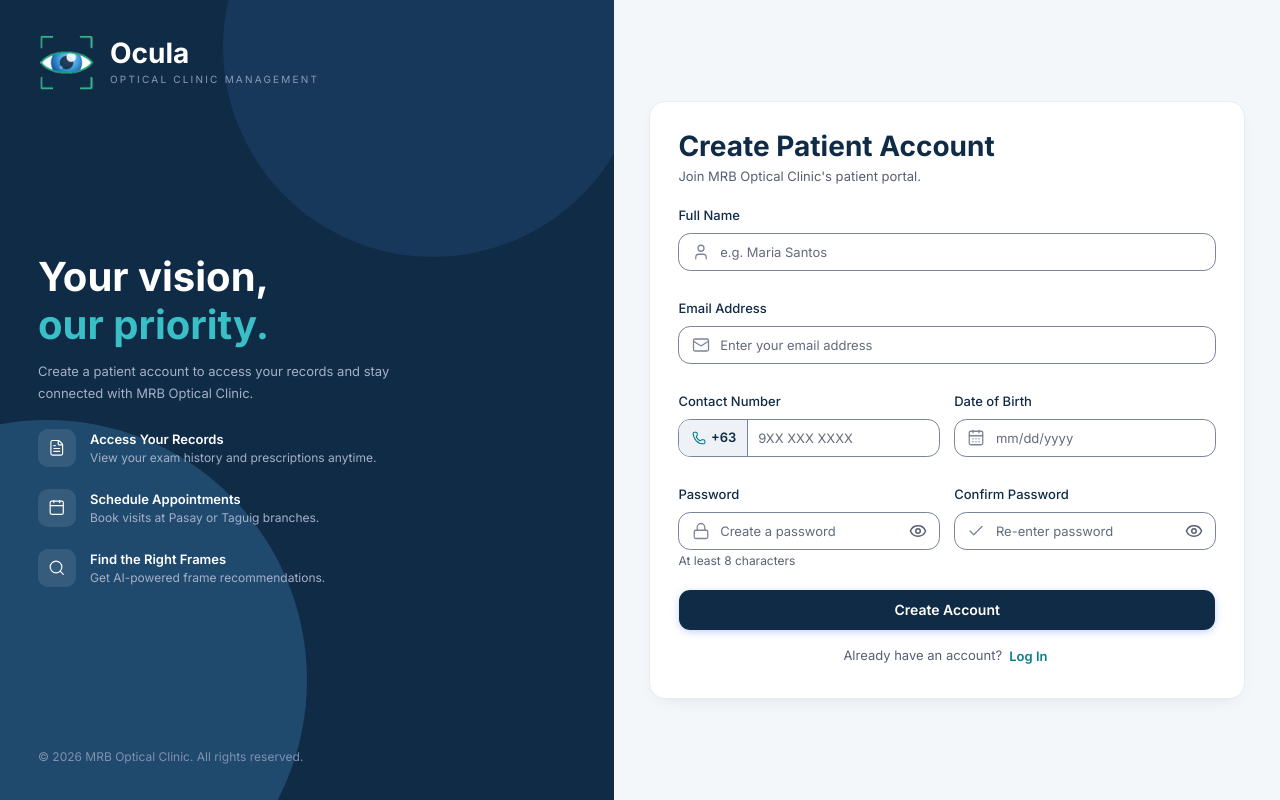
Register › after registering, lands on the page the visitor came for
The image size is (1280, 800).
In the field labelled "Full Name": (961, 252) [720, 234, 1203, 270], type "Maria Santos"
In the field labelled "Email Address": (961, 345) [720, 327, 1203, 363], type "maria@example.com"
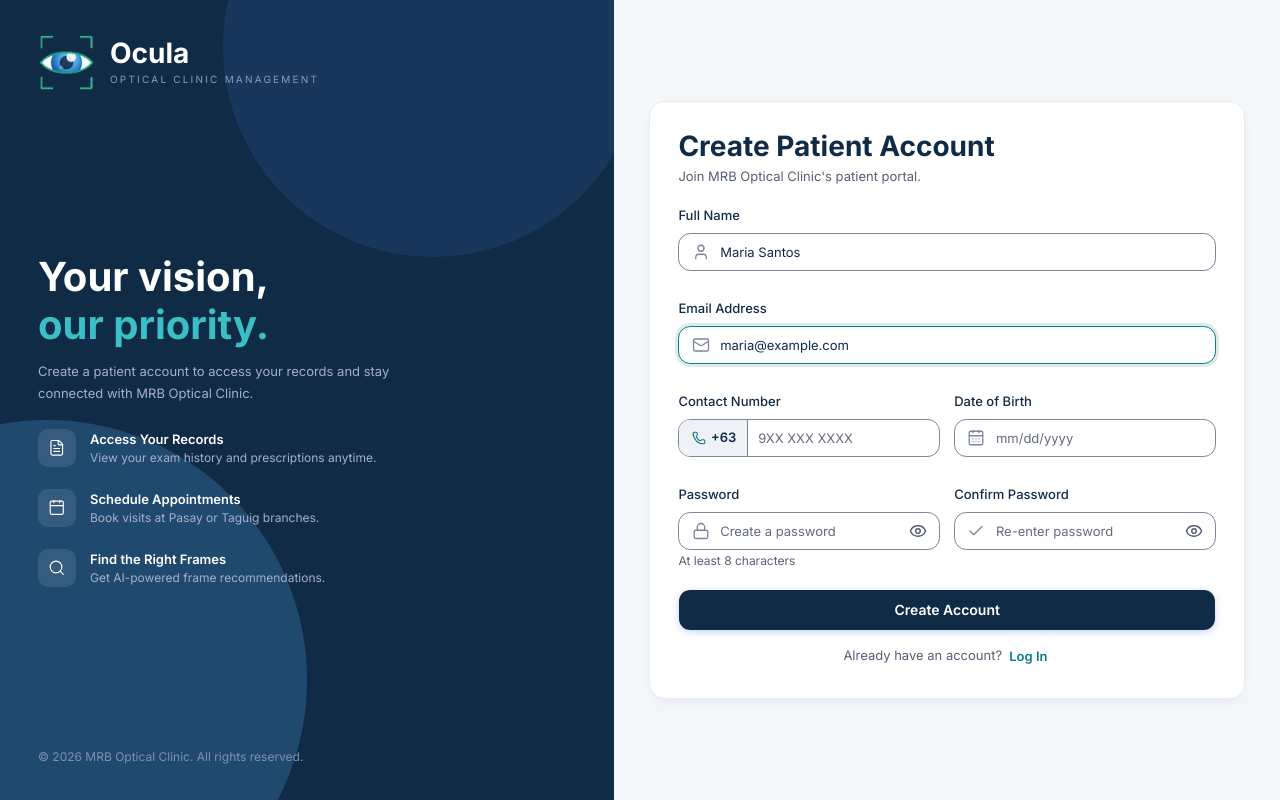
In the field labelled "Contact Number": (843, 438) [758, 420, 927, 456], type "9171234567"
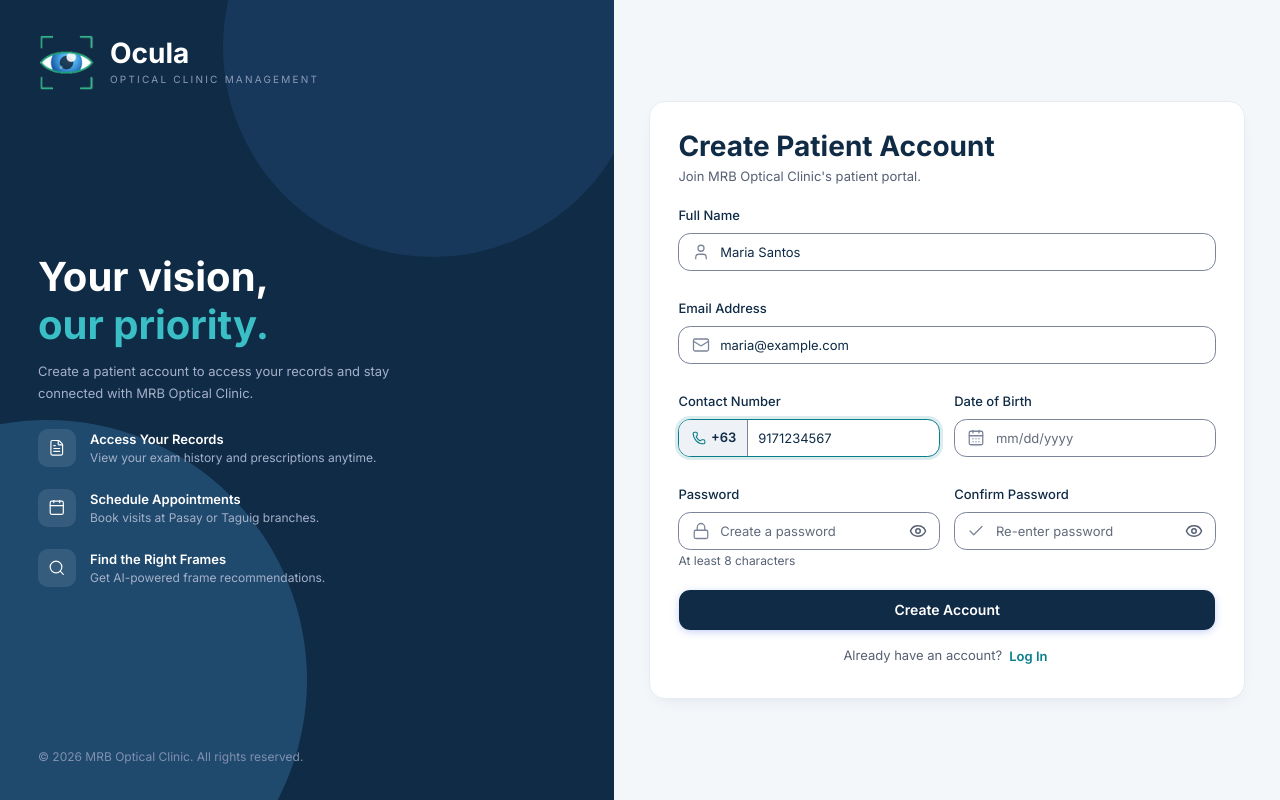
In the field labelled "Date of Birth": (1099, 438) [996, 420, 1203, 456], type "01/15/1990"
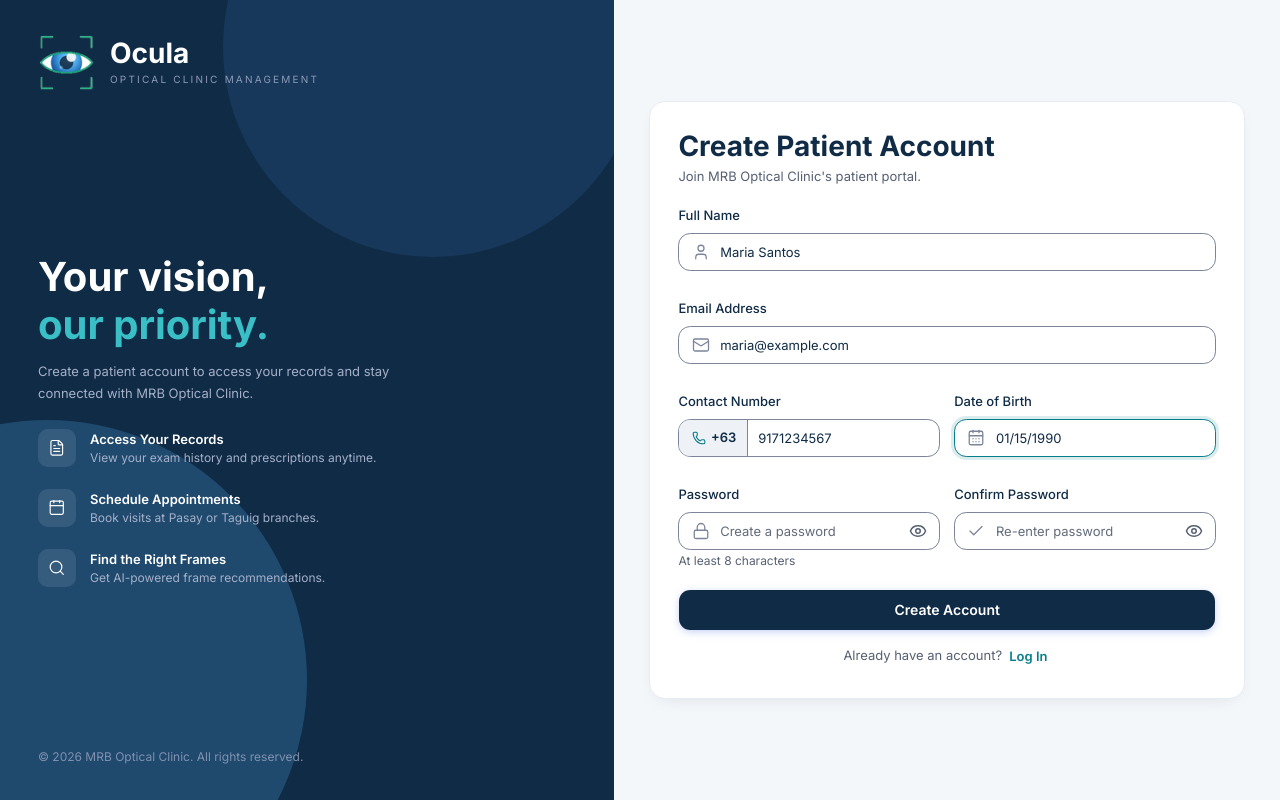
In the password field labelled "Password": (807, 531) [720, 513, 894, 549], type "password123"
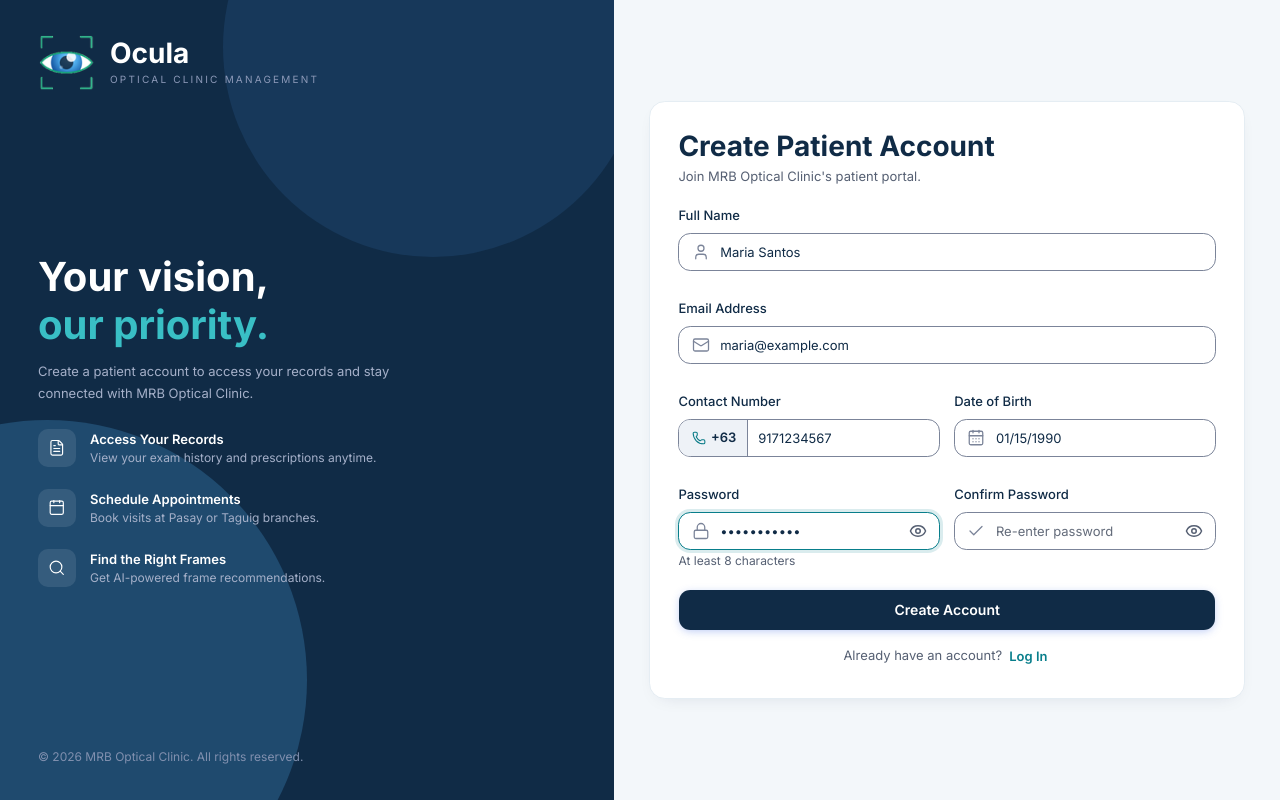
In the password field labelled "Confirm Password": (1083, 531) [996, 513, 1170, 549], type "password123"
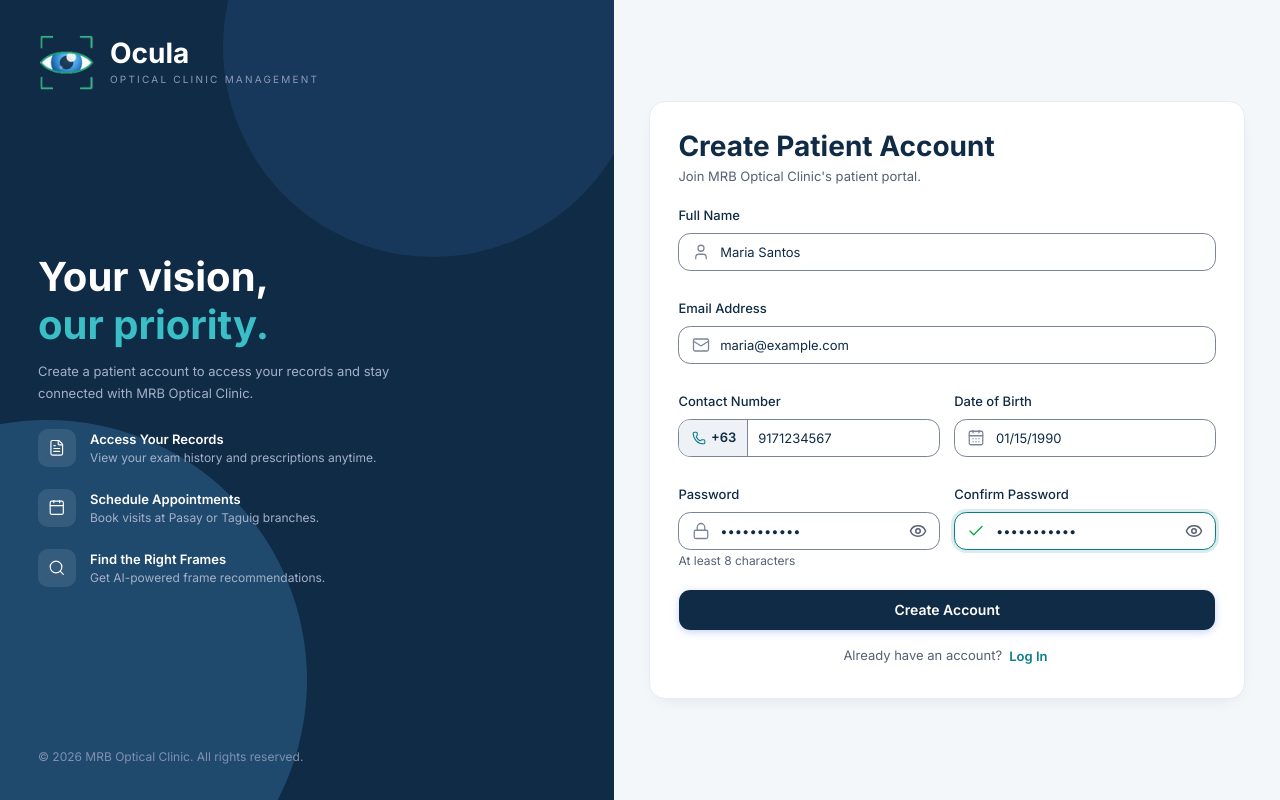
Click the button "Create Account": (947, 610) [678, 589, 1216, 631]
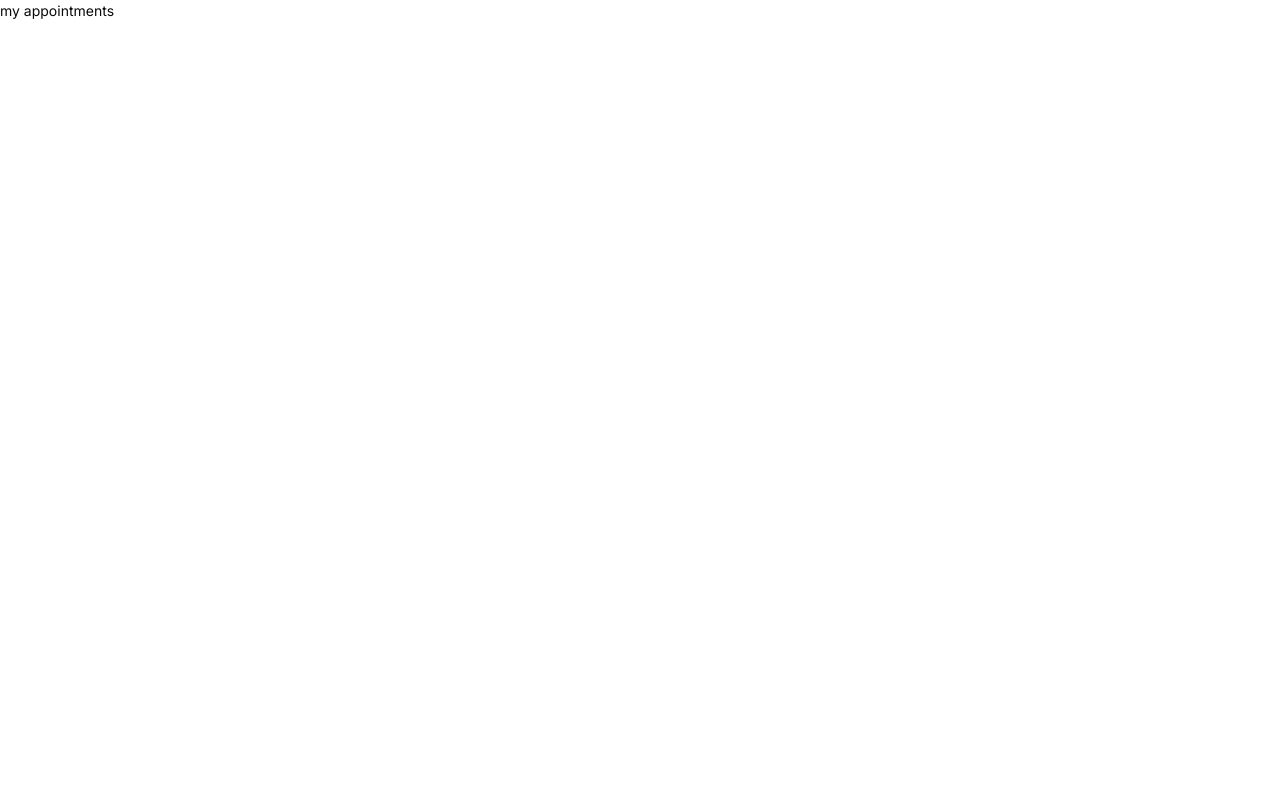
Check: the text "my appointments" is shown, box [0, 2, 114, 19]
